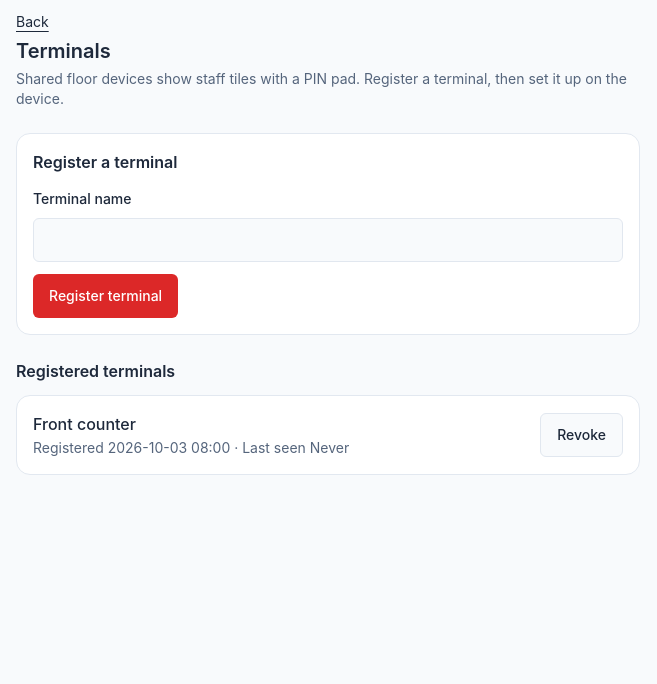
Test: TerminalsPage › shows the raw token once, can set up this device, and forgets it on dismiss
In the field labelled "Terminal name": (328, 240) [33,218,623,262], type "  Bar tablet "
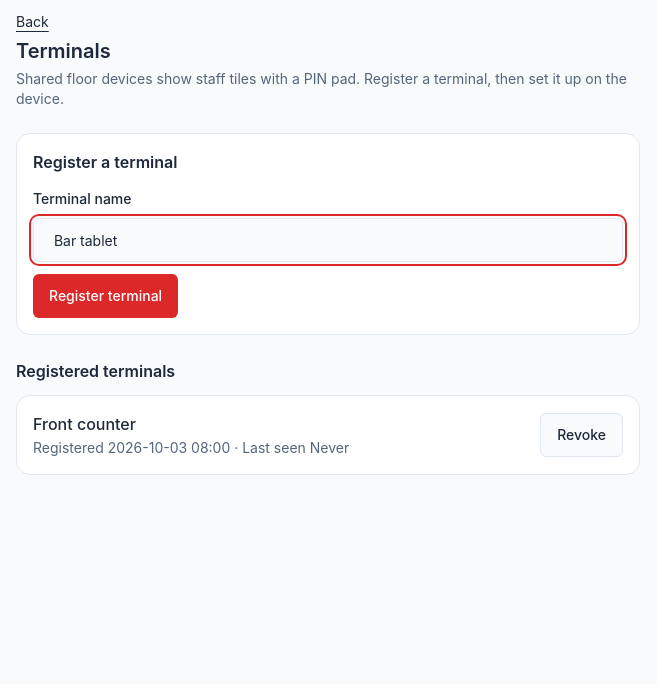
Click the button "Register terminal": (106, 296) [33,274,178,318]
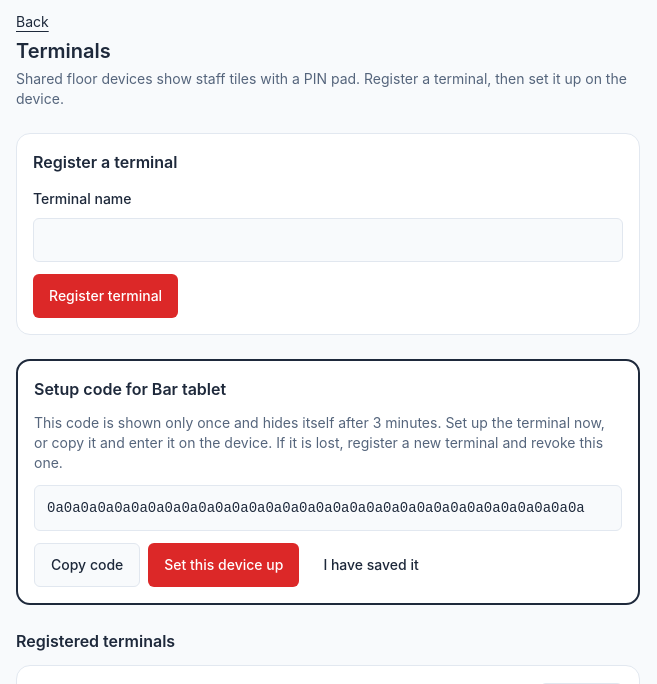
Click the button "Set this device up": (224, 565) [148,543,299,587]
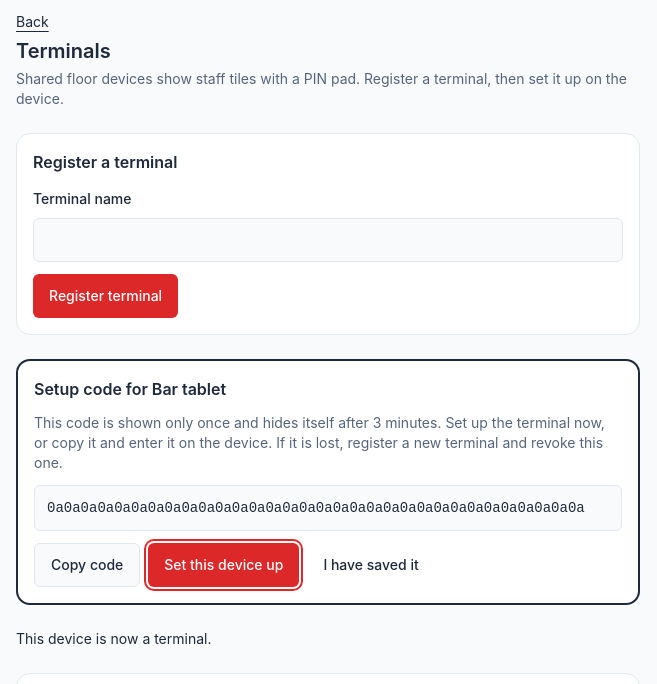
Click the button "I have saved it": (371, 565) [307,543,435,587]
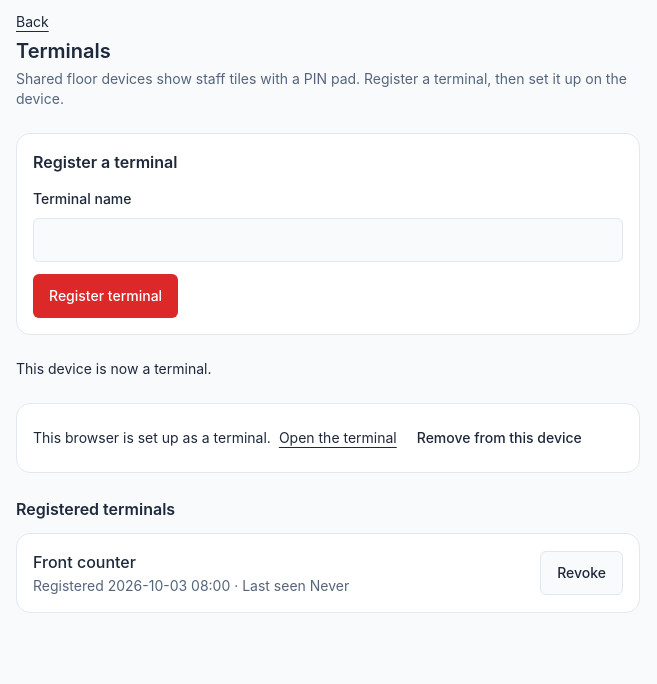
Check: the text with test id "kiosk-token" is gone
